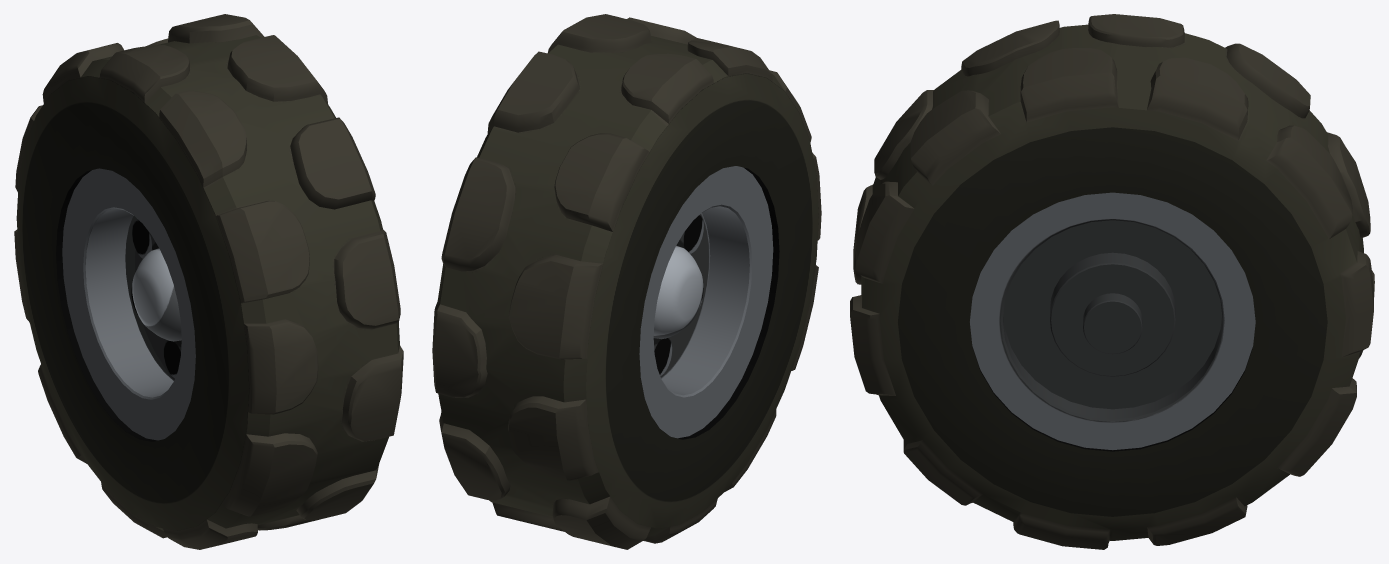
File: Hill Climber Mk. 2 HCR2 3D model_wheel_R.fbx
3 views of the same model, side by side, from view 1: azimuth 30°, elevation 25°; view 2: azimuth 150°, elevation 25°; view 3: azimuth 270°, elevation 25° (orthographic). The views are drawn at different scales.
Parts seen in each view (by area): view 1: HCR2_HC2_FR_Wheel; view 2: HCR2_HC2_FR_Wheel; view 3: HCR2_HC2_FR_Wheel.
Boxes of the visible parts, x1,y1,x2,y2 form: HCR2_HC2_FR_Wheel: [14, 14, 403, 549]; HCR2_HC2_FR_Wheel: [432, 14, 821, 549]; HCR2_HC2_FR_Wheel: [850, 14, 1374, 549].
Size of the model in its own units: 41.17 by 103 by 103.
